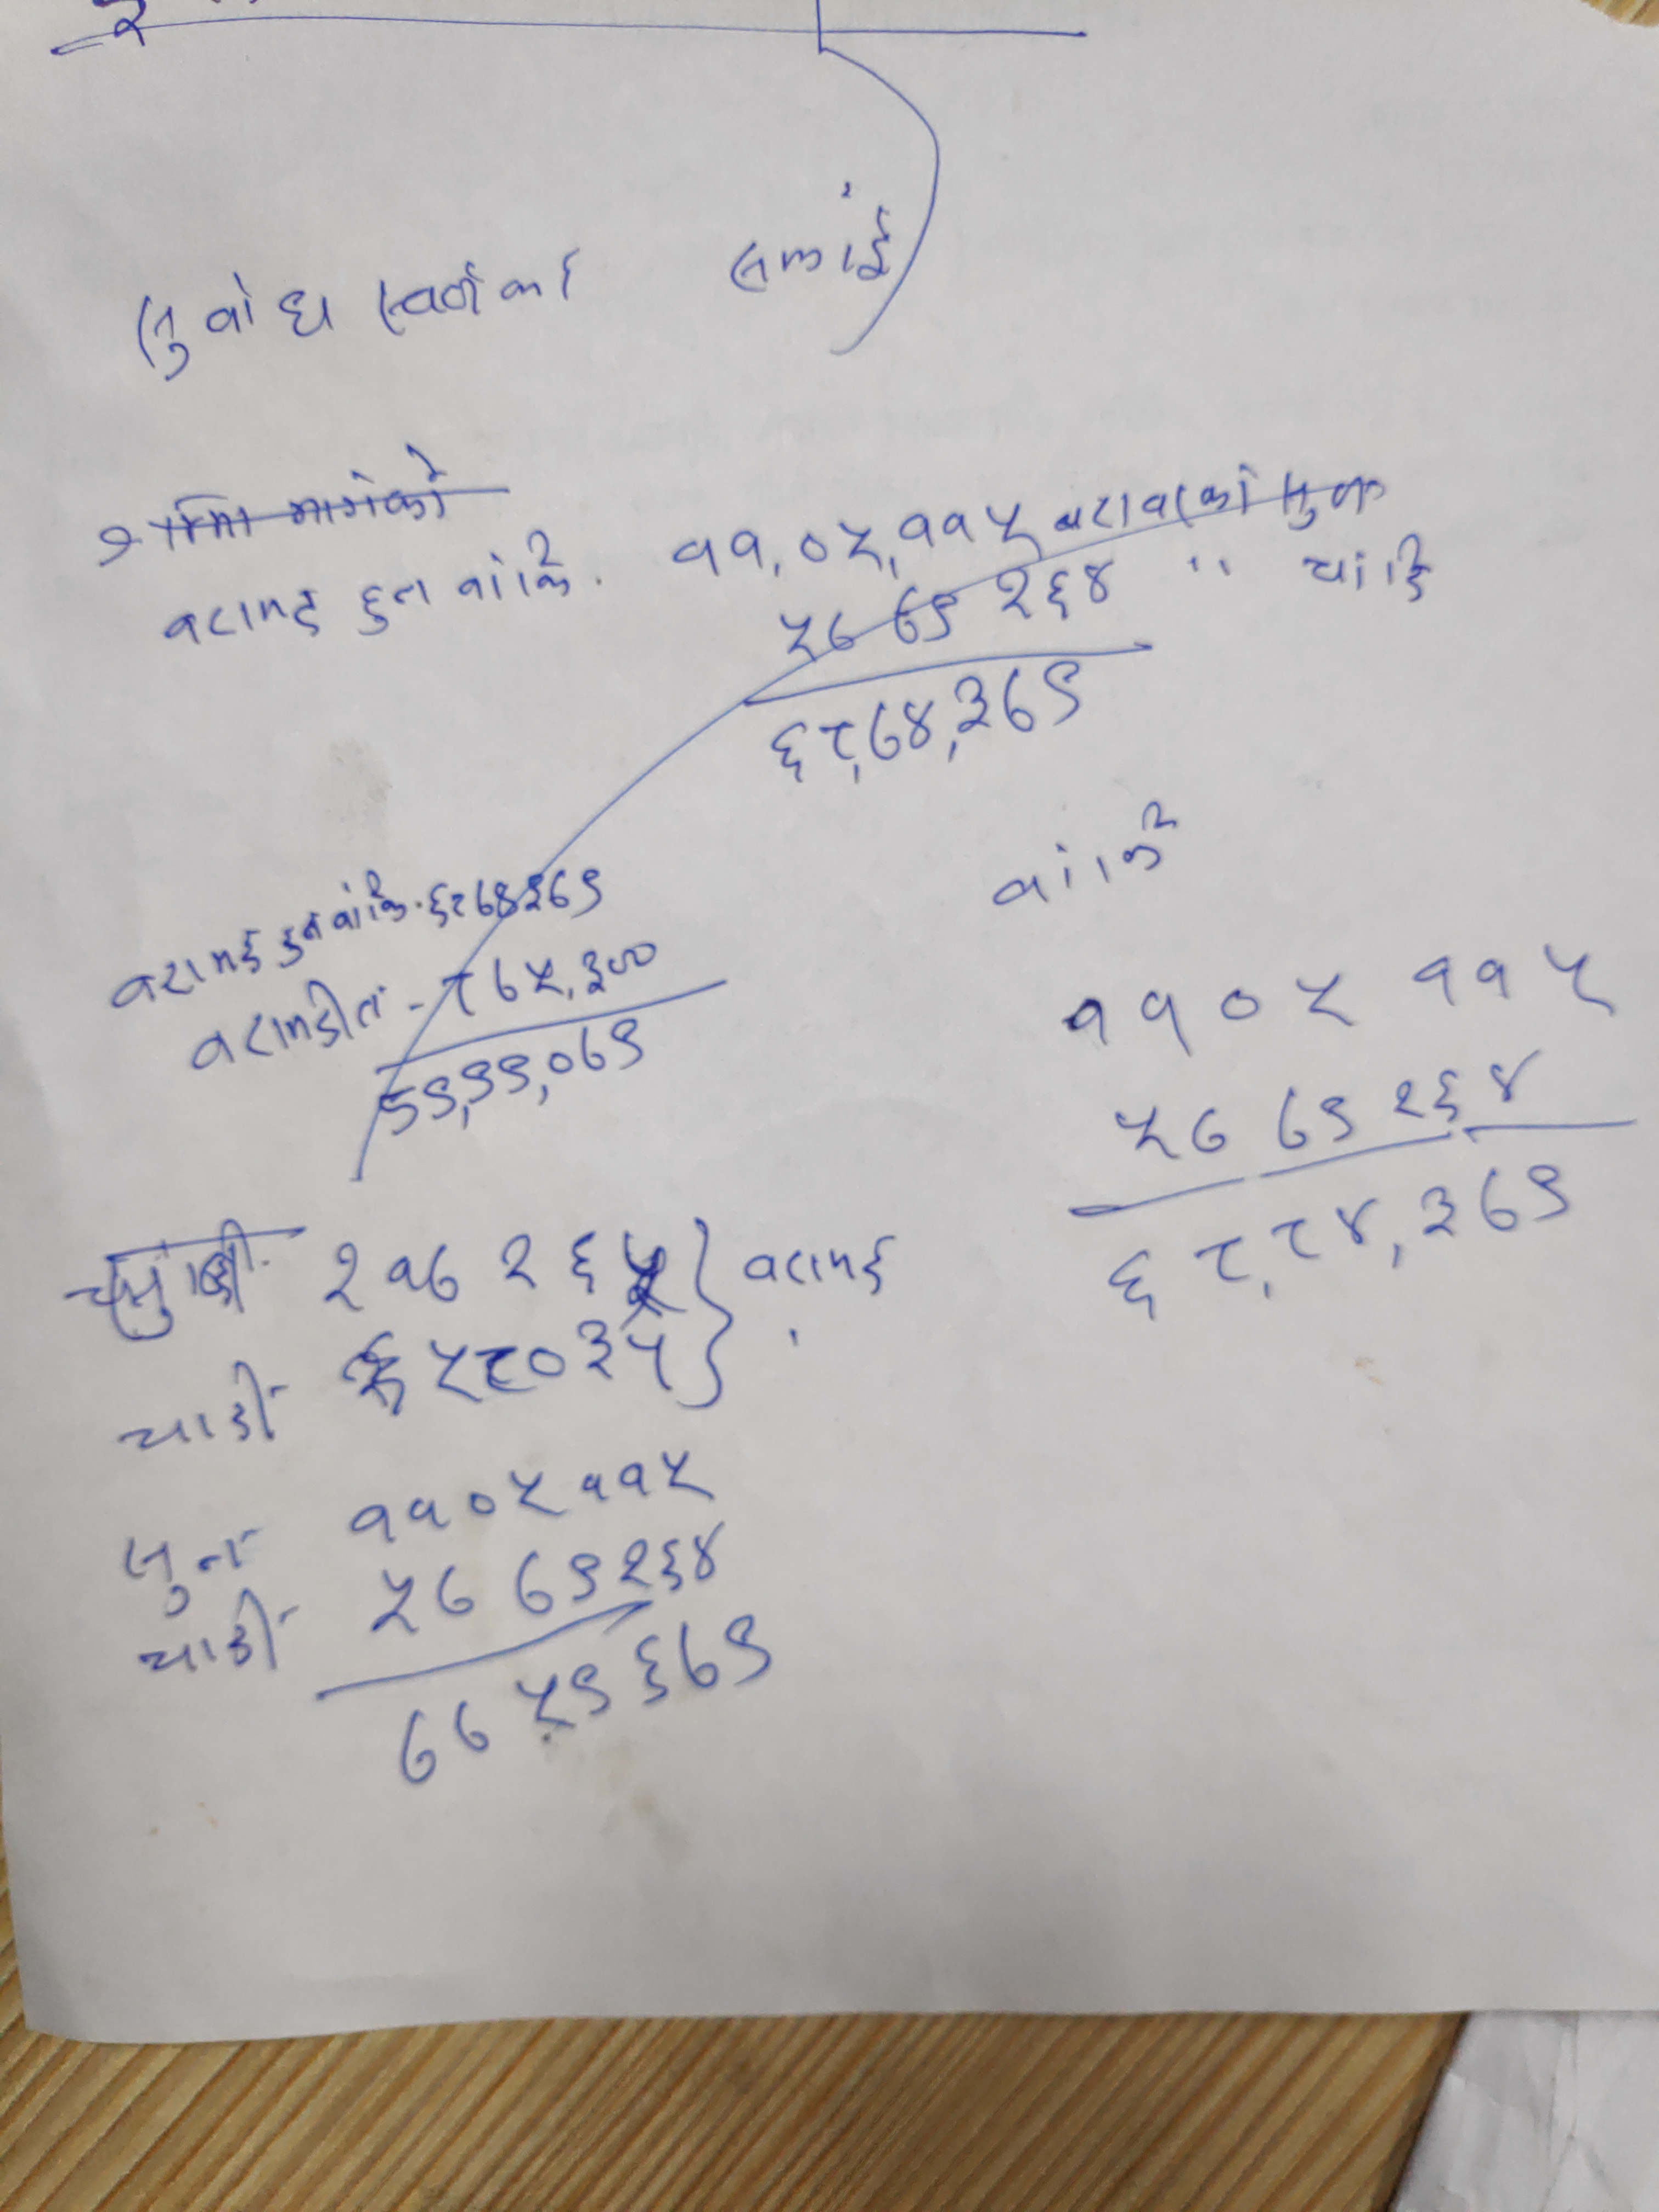text: (1065, 935, 1622, 1049), (1110, 1043, 1528, 1157), (767, 658, 1084, 794), (350, 1446, 716, 1538), (669, 496, 1042, 575), (132, 266, 342, 381), (185, 981, 387, 1075), (369, 253, 579, 340), (108, 1353, 279, 1456), (727, 211, 894, 296), (112, 1529, 249, 1616), (735, 1231, 901, 1303), (451, 521, 577, 611), (157, 582, 321, 650), (131, 1618, 282, 1683), (350, 577, 436, 644)
